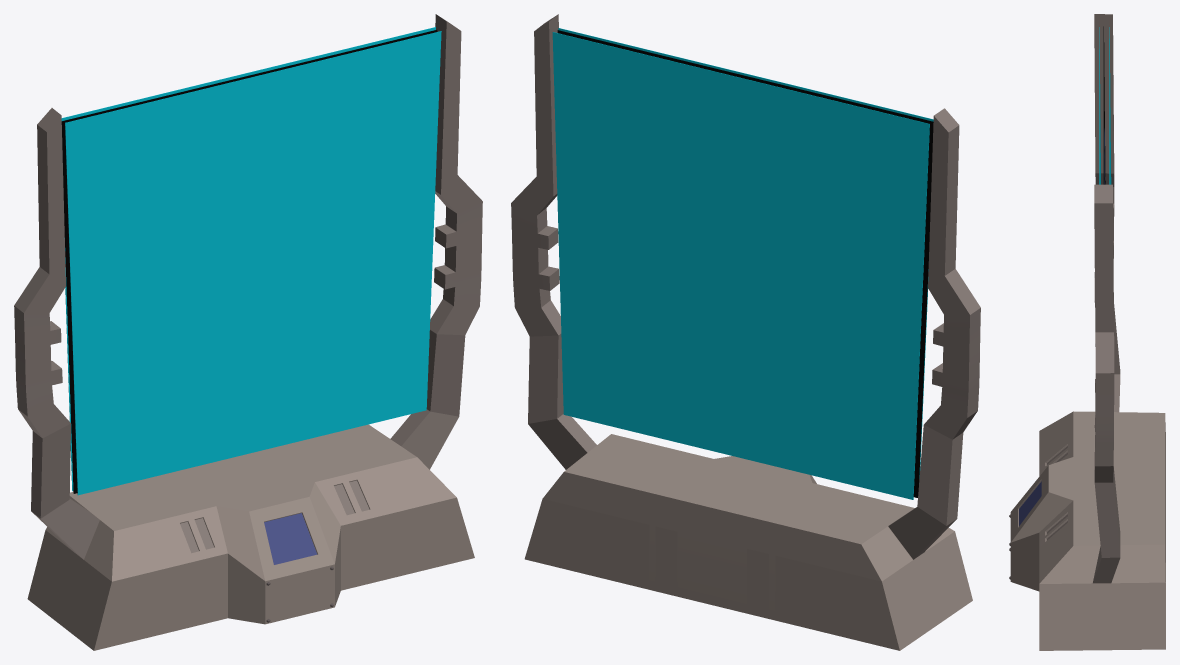
Rendered from Billboard_AmongUsTheme.fbx.
3 views of the same model, side by side, from view 1: azimuth 30°, elevation 25°; view 2: azimuth 150°, elevation 25°; view 3: azimuth 270°, elevation 25° (orthographic). The views are drawn at different scales.
Parts seen in each view (by area): view 1: Font_glass, SciFi_screen, screen, Back_glass; view 2: Back_glass, SciFi_screen, screen, Font_glass; view 3: SciFi_screen, screen, Back_glass, Font_glass.
Part boxes in pixels (x1,y1,x2,y2): Font_glass: (65, 31, 441, 495); SciFi_screen: (14, 14, 482, 650); screen: (61, 30, 437, 493); Back_glass: (61, 27, 435, 491); Back_glass: (552, 32, 929, 499); SciFi_screen: (511, 14, 980, 650); screen: (557, 30, 933, 497); Font_glass: (558, 28, 933, 478); SciFi_screen: (1009, 14, 1165, 650); screen: (1103, 26, 1105, 184); Back_glass: (1109, 27, 1111, 184); Font_glass: (1099, 27, 1100, 184).
Size of the model in its own units: 8.75 by 9.37 by 2.85.
